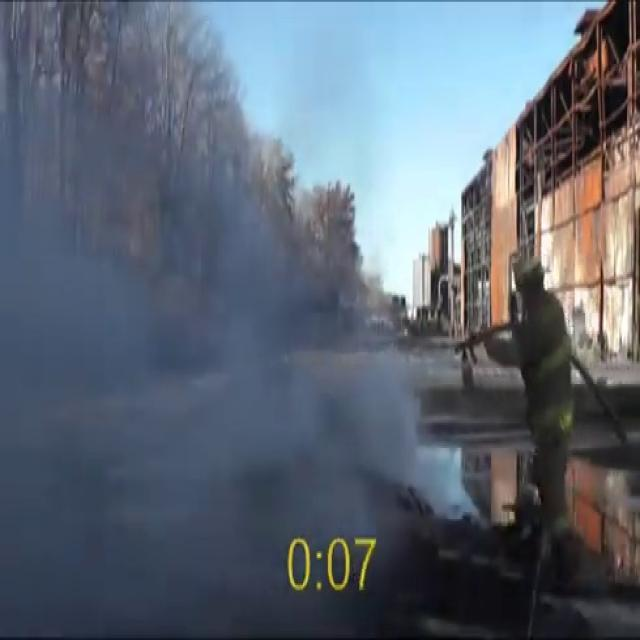Smoke: (0, 9, 445, 624)
